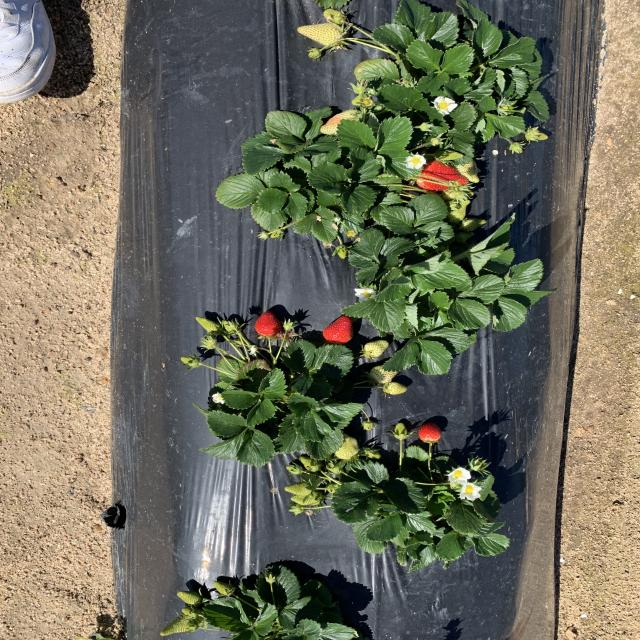unripe: (418, 156, 472, 192), (319, 311, 356, 346), (255, 310, 285, 340), (419, 420, 442, 442)
